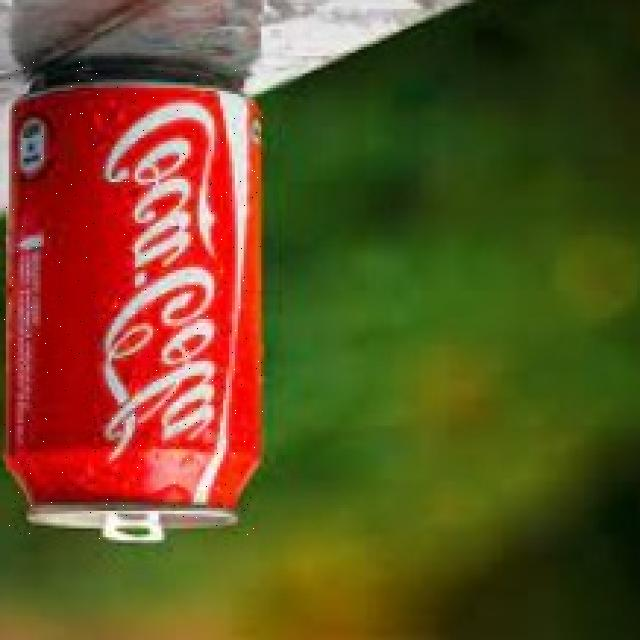metal: (0, 62, 264, 543)
